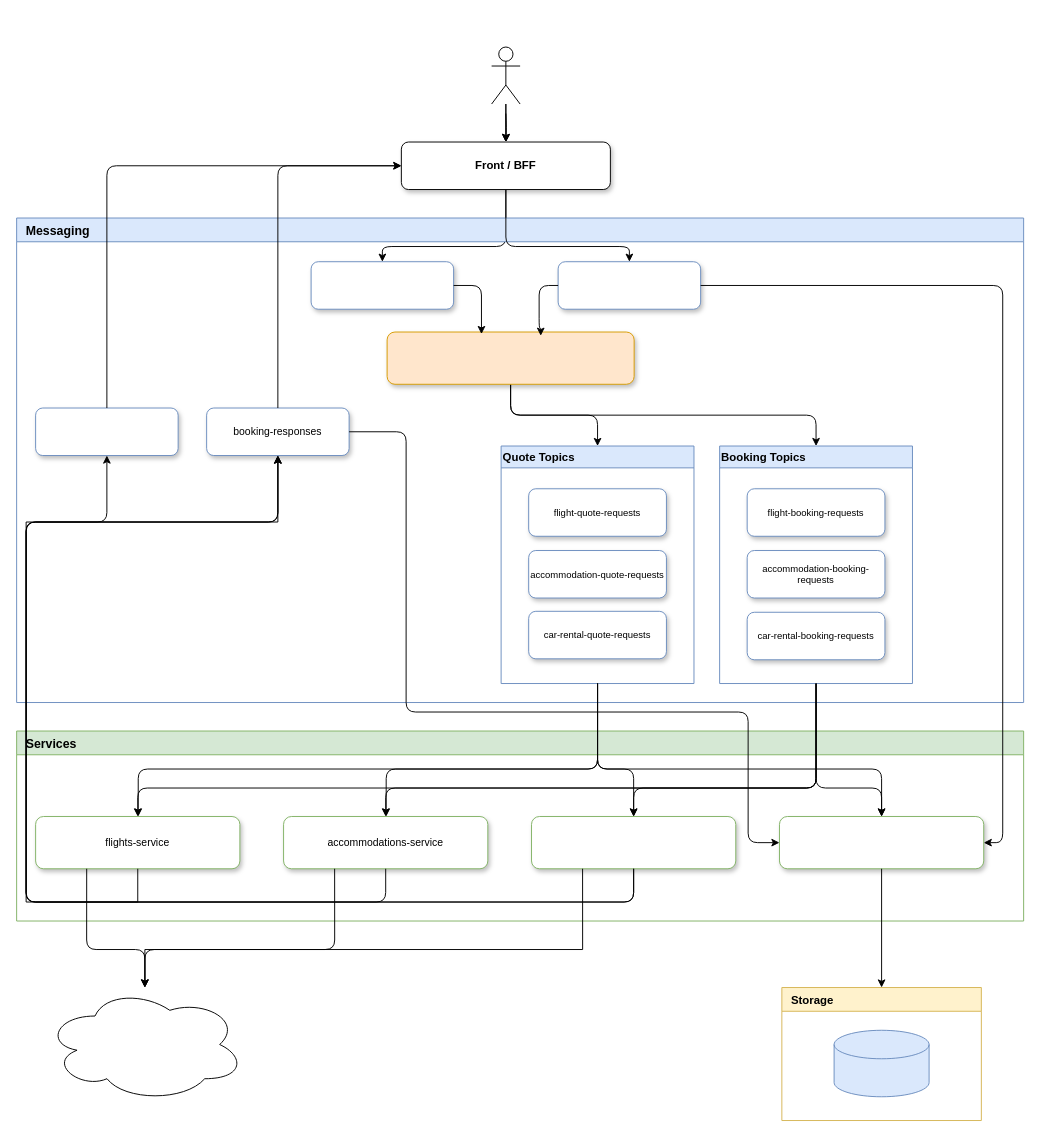
Some shapes in this 1040 by 1137 pixel diagram are drawn without their labels. Here are the shapes that lost their labels. From the top down, the centre of each, then its label:
At (x=505, y=75): "User".
At (x=382, y=286): "quote-commands".
At (x=629, y=286): "booking-commands".
At (x=511, y=359): "orchestrator-service".
At (x=107, y=432): "quote-responses".
At (x=634, y=843): "car-rental-service".
At (x=882, y=843): "booking-service".
At (x=144, y=1044): "External Companies APIs".
